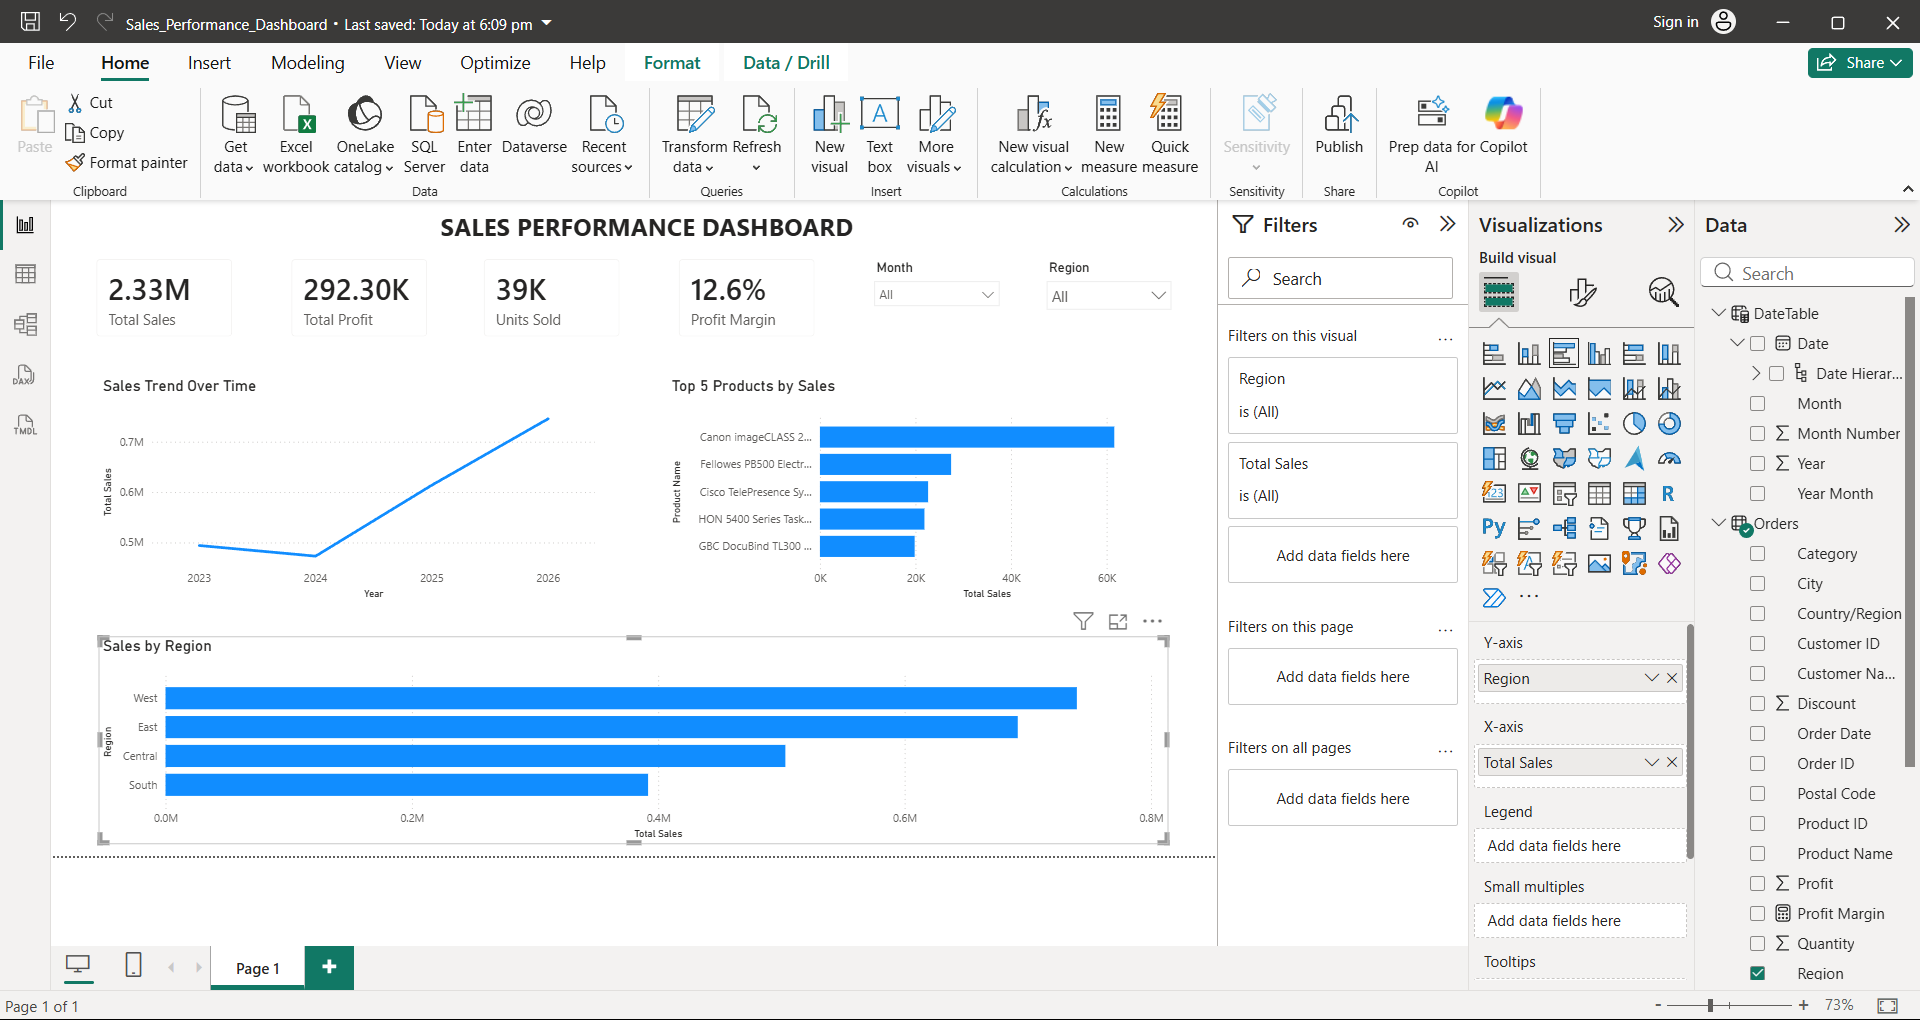

The page's visual inventory and layout, read from the dashboard file:
{"tool":"powerbi","page":{"name":"Page 1","canvas":[1280,720],"ordinal":0},"visuals":[{"type":"cardVisual","fields":{"Data":["Orders.Total Sales"]},"box":[32.9,48,183.9,119.4],"z":0},{"type":"cardVisual","fields":{"Data":["Orders.Total Profit"]},"box":[246.4,48,183,119],"z":1000},{"type":"cardVisual","fields":{"Data":["Orders.Units Sold"]},"box":[458.9,48,183.9,119],"z":2000},{"type":"cardVisual","fields":{"Data":["Orders.Profit Margin"]},"box":[672.4,48,183,119],"z":3000},{"type":"clusteredBarChart","title":"Sales by Region","fields":{"Category":["Orders.Region"],"Y":["Orders.Total Sales"]},"box":[52.1,478.9,1174.6,227.8],"z":4000},{"type":"slicer","fields":{"Values":["Orders.Region"]},"box":[1082.7,60.4,157,87.8],"z":5000},{"type":"textbox","box":[422.6,5.5,506.3,45.3],"z":6000},{"type":"clusteredBarChart","title":"Top 5 Products by Sales","fields":{"Category":["Orders.Product Name"],"Y":["Orders.Total Sales"]},"box":[676.5,193.5,550,250],"z":8000},{"type":"slicer","fields":{"Values":["DateTable.Month"]},"box":[893.3,60.4,157.8,87.8],"z":9000},{"type":"lineChart","title":"Sales Trend Over Time","fields":{"Category":["DateTable.Date.Variation.Date Hierarchy.Year","DateTable.Date.Variation.Date Hierarchy.Quarter","DateTable.Date.Variation.Date Hierarchy.Month","DateTable.Date.Variation.Date Hierarchy.Day"],"Y":["Orders.Total Sales"]},"box":[52.1,193.5,550,250],"z":9001}]}

Visuals, with their boxes on the page's 1280x720 design canvas (x1, y1, x2, y2). These are canvas units, not pixel positions in the 1920x1020 screenshot, which may show the page scaled, cropped or inside an application window:
cardVisual - Orders.Total Sales: {"x1": 33, "y1": 48, "x2": 217, "y2": 167}
cardVisual - Orders.Total Profit: {"x1": 246, "y1": 48, "x2": 429, "y2": 167}
cardVisual - Orders.Units Sold: {"x1": 459, "y1": 48, "x2": 643, "y2": 167}
cardVisual - Orders.Profit Margin: {"x1": 672, "y1": 48, "x2": 855, "y2": 167}
"Sales by Region" clusteredBarChart: {"x1": 52, "y1": 479, "x2": 1227, "y2": 707}
slicer - Orders.Region: {"x1": 1083, "y1": 60, "x2": 1240, "y2": 148}
textbox: {"x1": 423, "y1": 6, "x2": 929, "y2": 51}
"Top 5 Products by Sales" clusteredBarChart: {"x1": 676, "y1": 194, "x2": 1226, "y2": 444}
slicer - DateTable.Month: {"x1": 893, "y1": 60, "x2": 1051, "y2": 148}
"Sales Trend Over Time" lineChart: {"x1": 52, "y1": 194, "x2": 602, "y2": 444}
